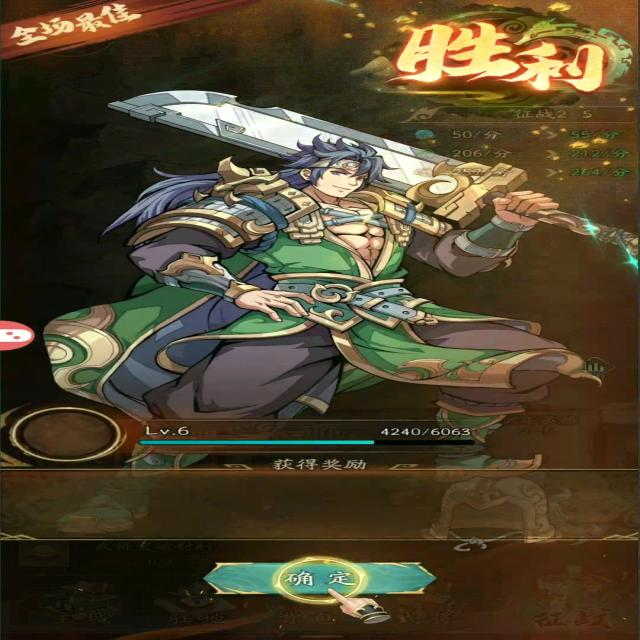hint-guide: (268, 548, 364, 612)
operation-confirm: (188, 558, 442, 599)
